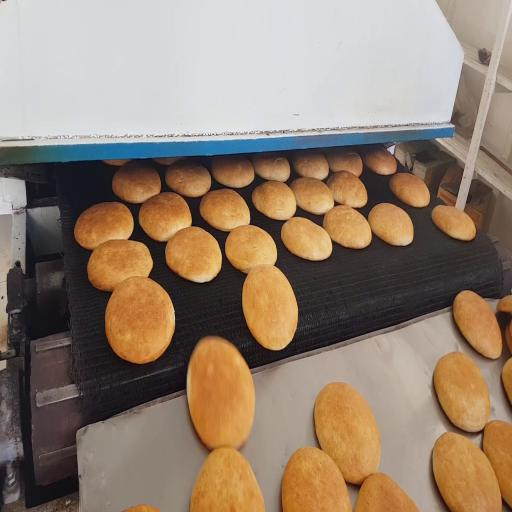bread: (187, 337, 255, 449), (314, 383, 380, 484), (106, 277, 175, 364), (432, 433, 501, 511), (242, 265, 298, 350), (190, 448, 265, 511), (434, 352, 490, 432), (282, 447, 351, 511), (87, 240, 153, 291), (453, 291, 502, 358), (166, 227, 221, 282), (74, 202, 133, 249), (139, 192, 191, 241), (225, 225, 277, 273), (354, 473, 419, 511), (483, 421, 511, 506), (281, 217, 332, 260), (200, 189, 250, 231), (112, 161, 161, 203), (323, 206, 371, 248), (368, 203, 413, 246), (252, 181, 296, 220), (166, 160, 211, 197), (290, 178, 334, 214), (432, 205, 475, 240), (327, 171, 367, 208), (211, 156, 254, 188), (390, 173, 430, 207), (292, 150, 329, 180), (252, 153, 290, 182), (326, 148, 362, 176), (363, 146, 396, 175), (502, 358, 511, 404), (153, 157, 185, 165), (497, 295, 511, 312), (124, 505, 159, 511), (505, 322, 511, 354), (104, 159, 130, 166)
